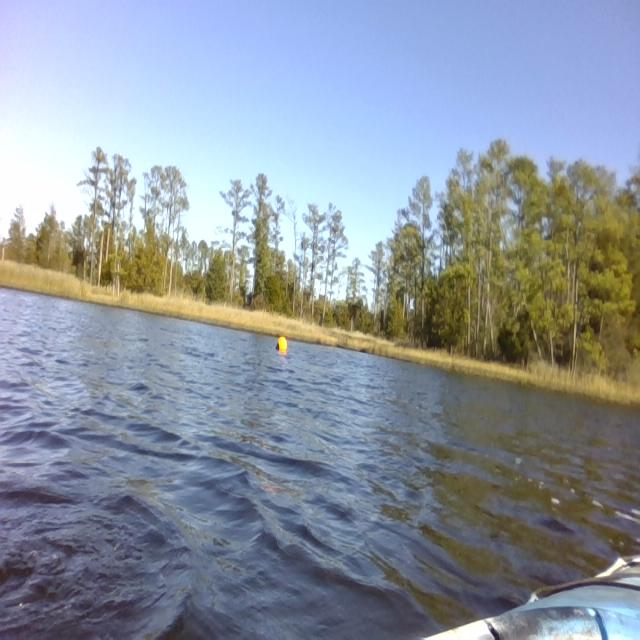Buoy: (275, 332, 289, 356)
